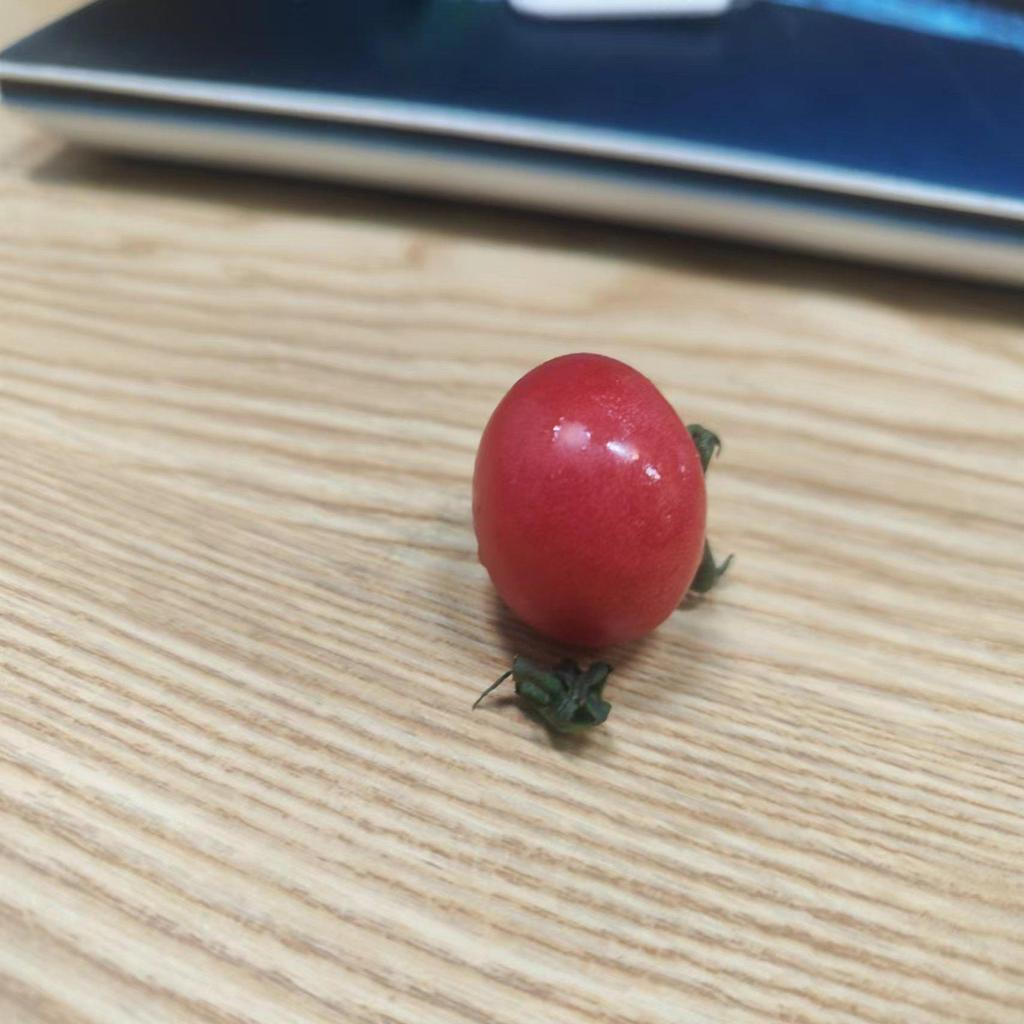tomato: (469, 341, 741, 673)
